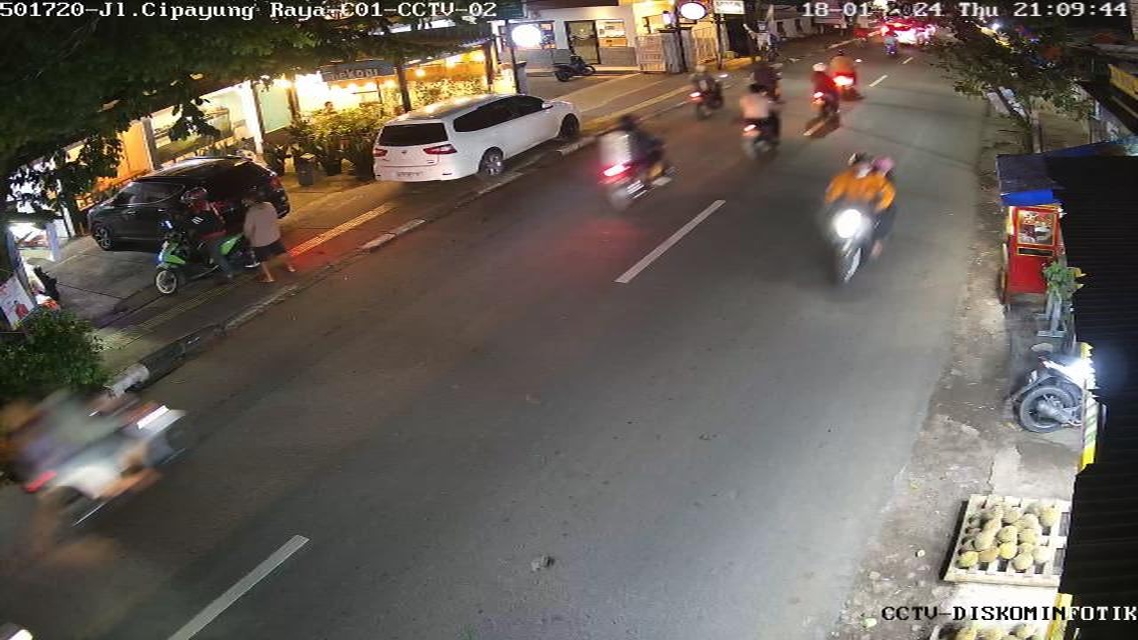Gerobak: (992, 173, 1072, 307)
